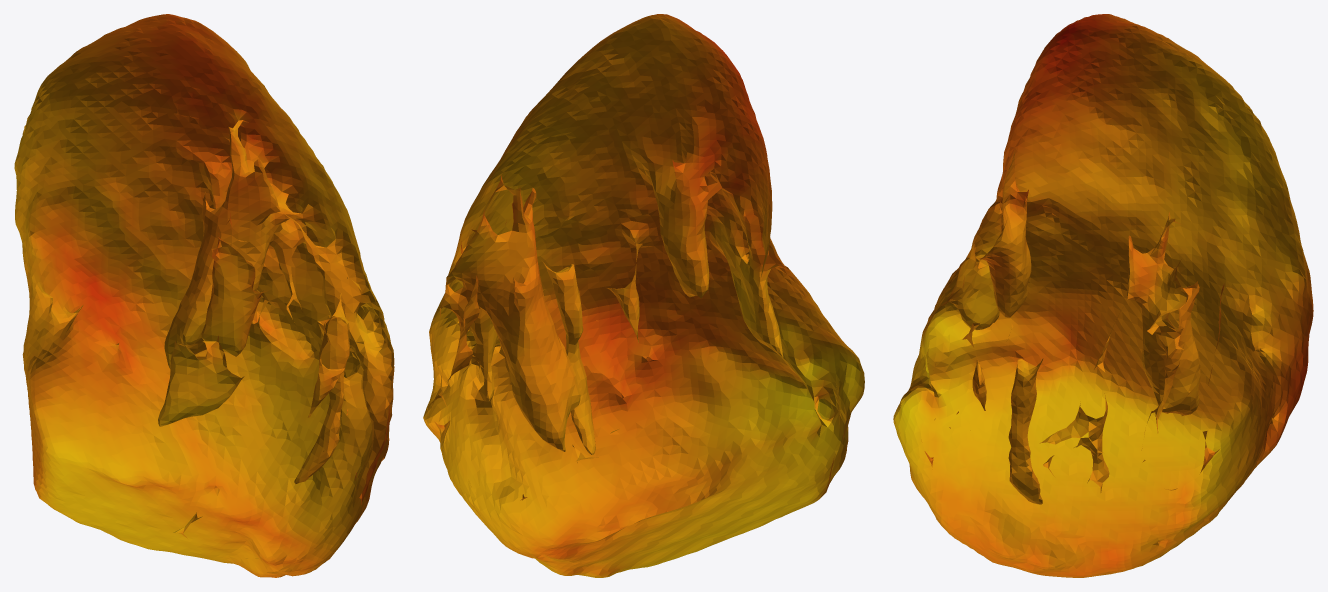
Rendered from 83_SQZData_1-processed.glb.
The picture shows the model from 3 angles, left to right: view 1: azimuth 30°, elevation 25°; view 2: azimuth 150°, elevation 25°; view 3: azimuth 270°, elevation 25°; orthographic projection. The views are drawn at different scales.
Visible parts, largest first — view 1: Renderer Node; view 2: Renderer Node; view 3: Renderer Node.
Part boxes in pixels (x1,y1,x2,y2): Renderer Node: [14, 14, 394, 577]; Renderer Node: [423, 14, 864, 577]; Renderer Node: [893, 14, 1313, 577].
Bounding box in the file's own units: 48.02 × 71.61 × 52.93.
